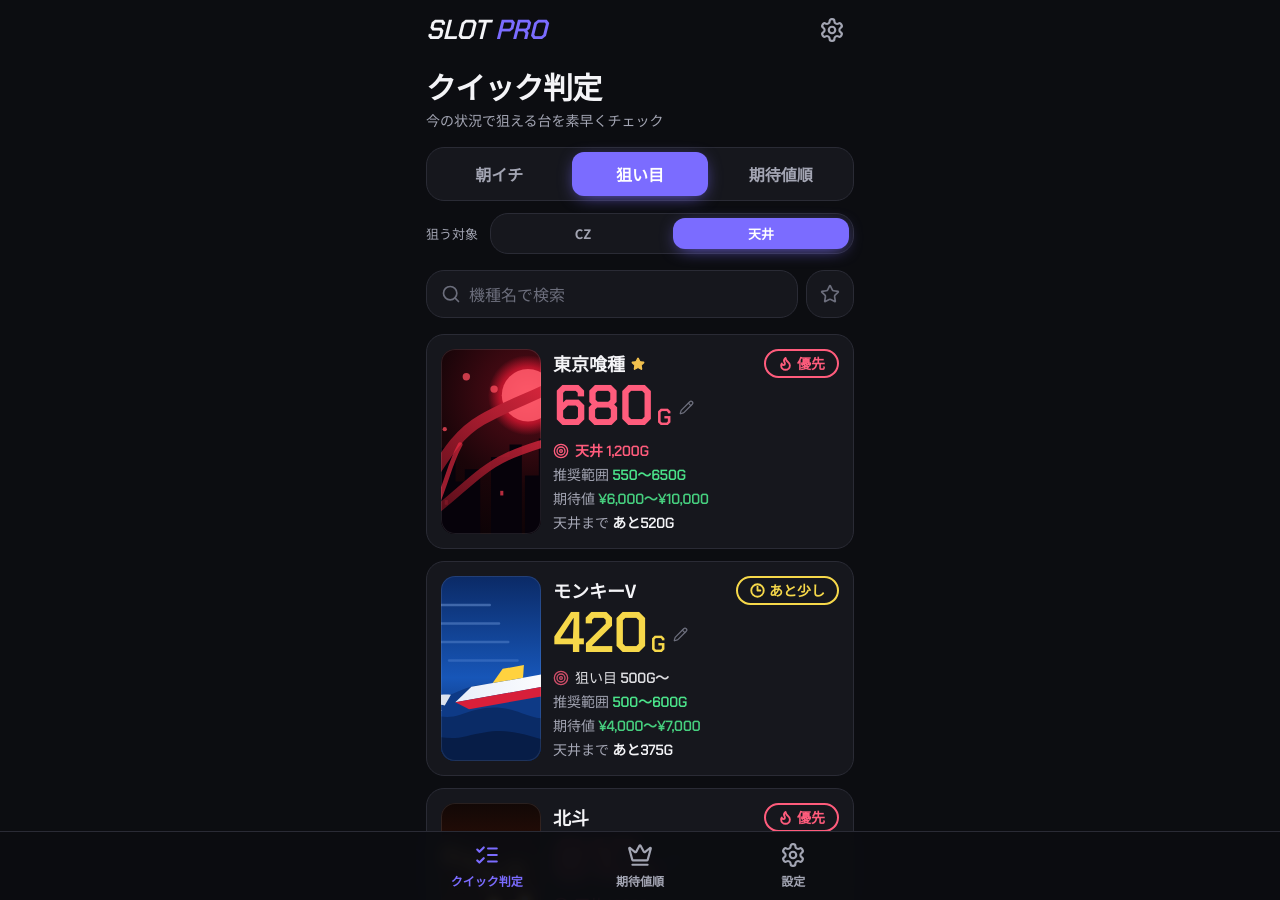
Test: 画面 › 機種詳細: 朝一天井の表記・有利区間・リンク未登録
Click the button named "東京喰種の詳細" at {"x": 491, "y": 442}, box [441,349,541,534]
(page scrolled)
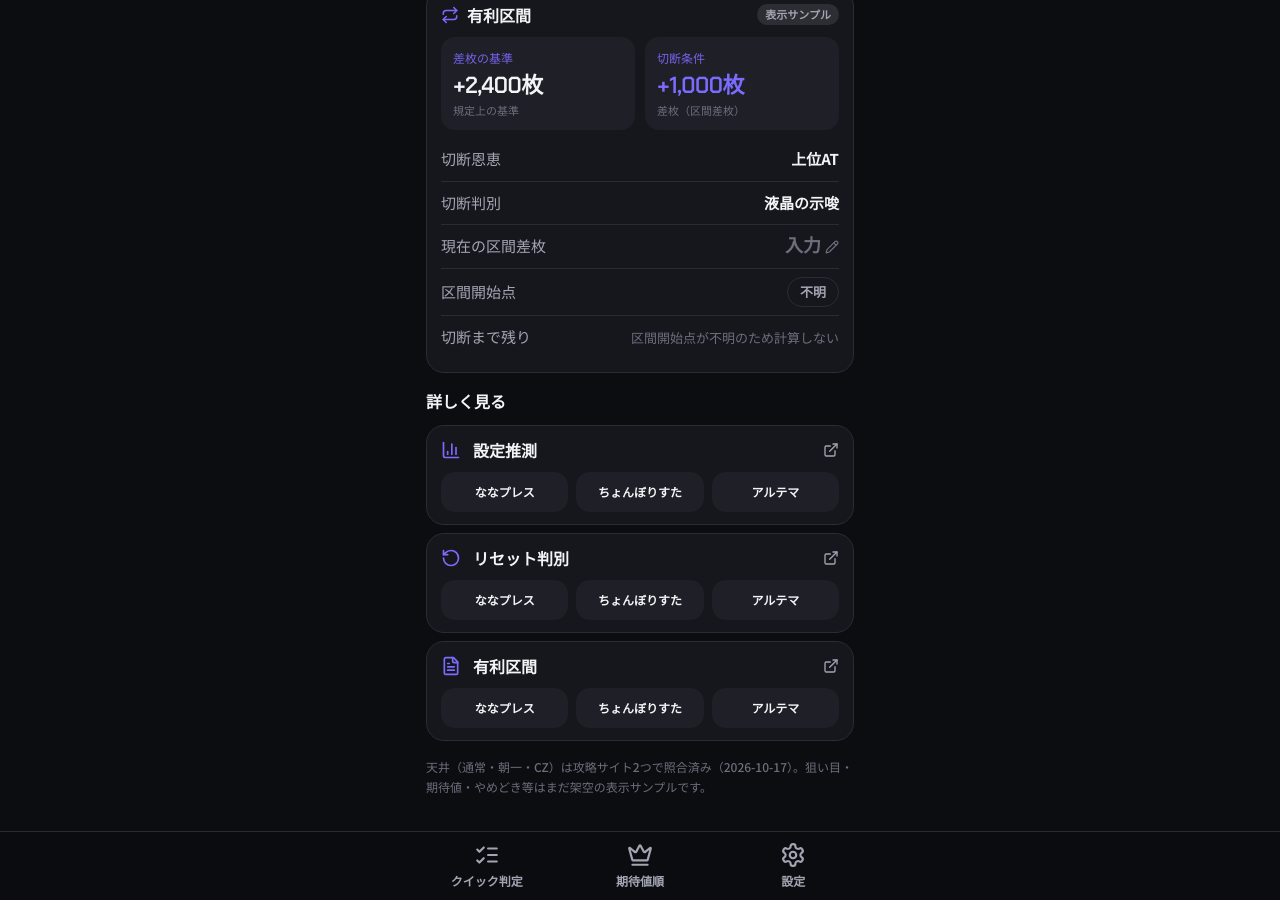
expect the heading "有利区間" is shown: met, box [441,2,531,26]
expect the text "+2,400枚" is shown: met, box [453,70,543,100]
expect the text "+1,000枚" is shown: met, box [657,70,744,100]
